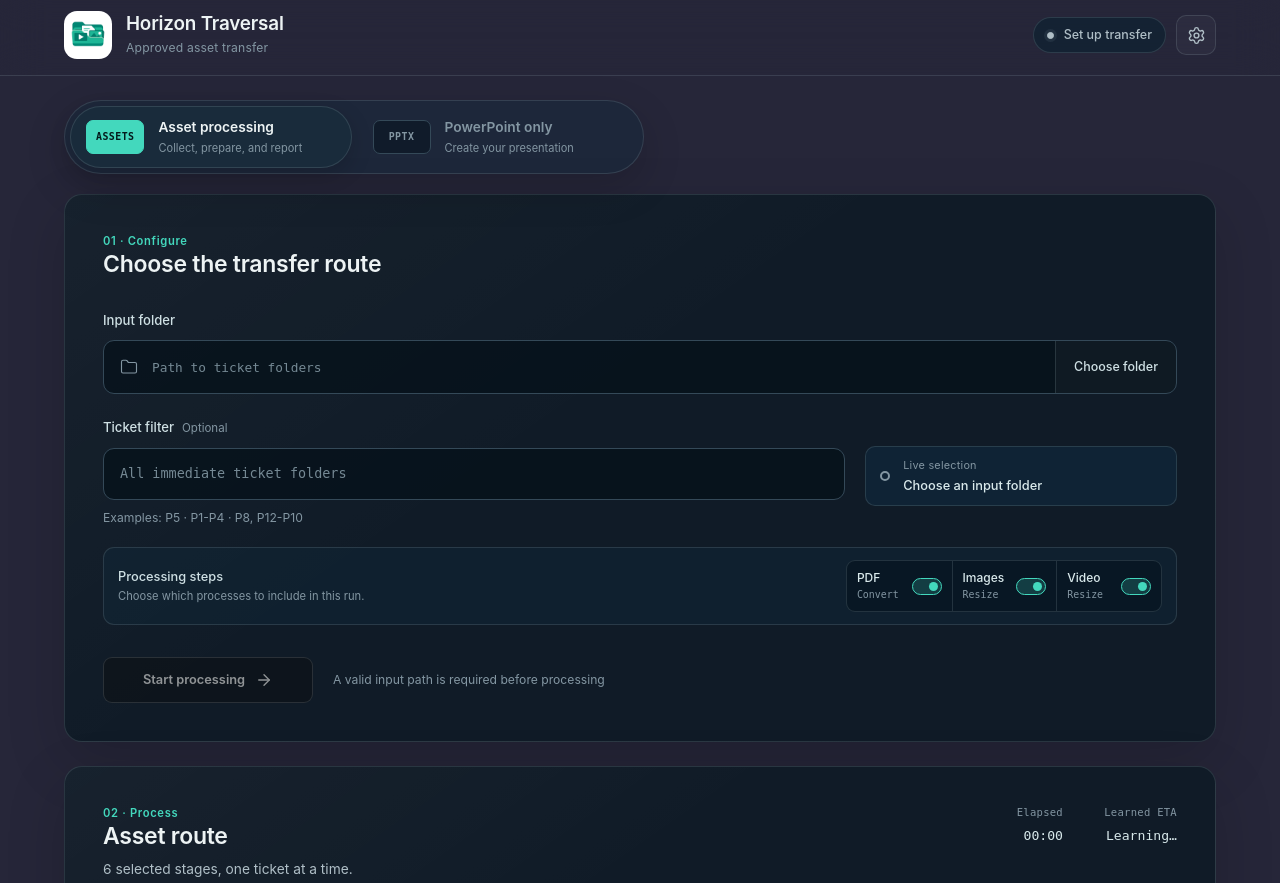
Scenario: Horizon Traversal workbench › keeps a failed-file partial ticket from rendering an all-green route
The width and height of the screenshot is (1280, 883).
Type "/tickets" into the field labelled "Input folder" at (596, 367), box [138, 343, 1055, 392]
Wait 360 ms
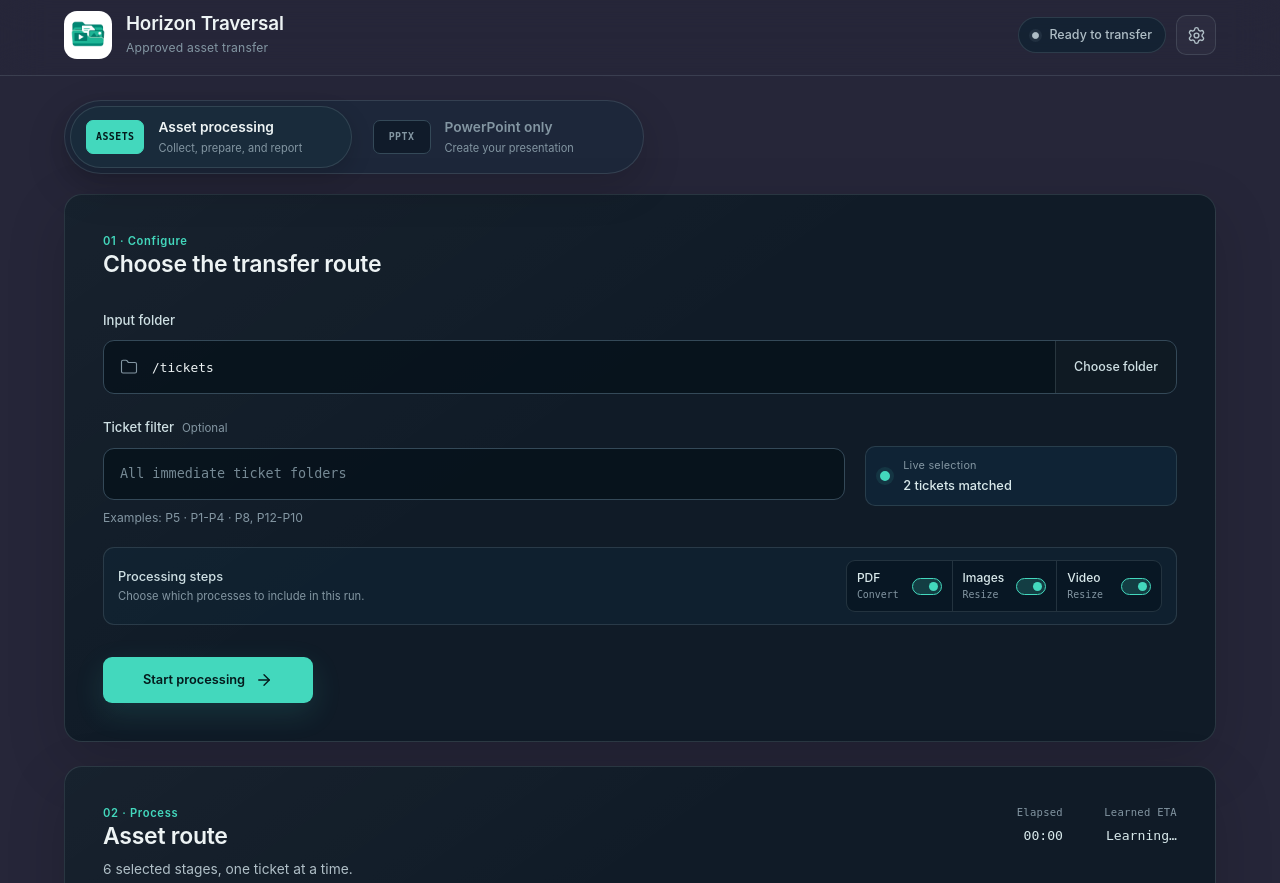
Click the button "Start processing" at (208, 680), box [103, 657, 313, 703]
(page scrolled)
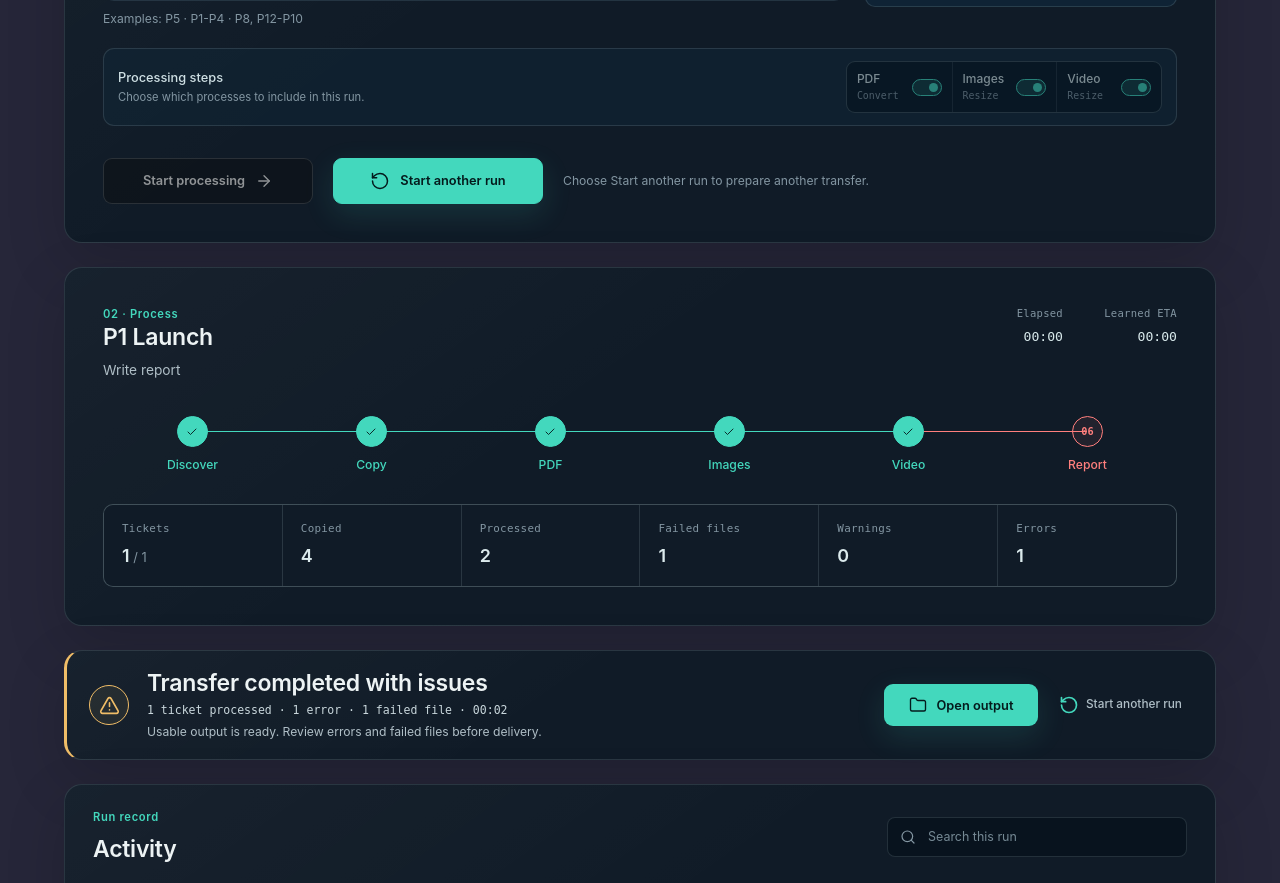
Expected: the heading "Transfer completed with issues" is shown, [147, 669, 488, 697]
